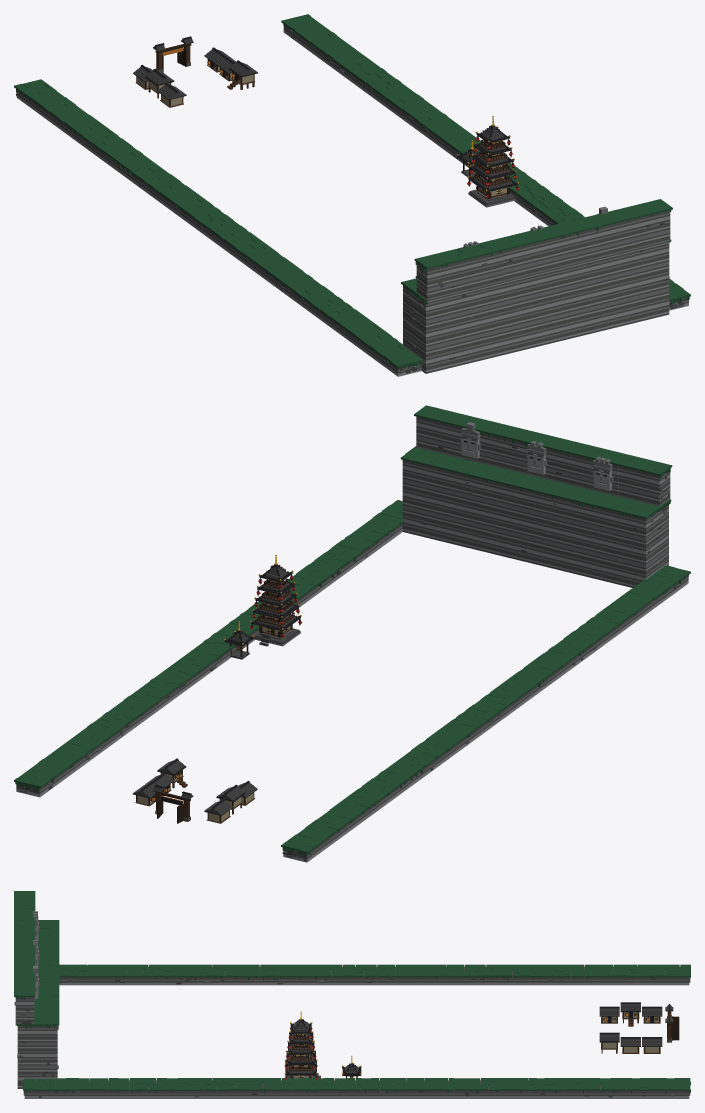
File: NinjaHero.glb
3 renders of one model, top to bottom at view 1: azimuth 30°, elevation 25°; view 2: azimuth 150°, elevation 25°; view 3: azimuth 270°, elevation 25°, orthographic. The views are drawn at different scales.
Visible parts, largest first — view 1: NinjaHero6, NinjaHero1, NinjaHero2, NinjaHero3, NinjaHero5; view 2: NinjaHero6, NinjaHero1, NinjaHero2, NinjaHero3, NinjaHero5; view 3: NinjaHero1, NinjaHero6, NinjaHero2, NinjaHero3, NinjaHero5, NinjaHero4.
Part boxes in pixels (box(x1,y1,x2,y2)): NinjaHero6: box(306, 199, 690, 376); NinjaHero1: box(14, 14, 481, 238); NinjaHero2: box(209, 221, 332, 309); NinjaHero3: box(462, 140, 549, 209); NinjaHero5: box(524, 192, 584, 226); NinjaHero6: box(306, 405, 690, 649); NinjaHero1: box(14, 630, 501, 862); NinjaHero2: box(476, 632, 599, 720); NinjaHero3: box(209, 580, 302, 656); NinjaHero5: box(257, 566, 332, 613); NinjaHero1: box(352, 964, 690, 1098); NinjaHero6: box(14, 891, 182, 1098); NinjaHero2: box(182, 964, 352, 985); NinjaHero3: box(267, 1031, 352, 1098); NinjaHero5: box(182, 1078, 267, 1098); NinjaHero4: box(290, 1011, 312, 1038).
Size of the model in its own units: 222 by 81.2 by 509.
